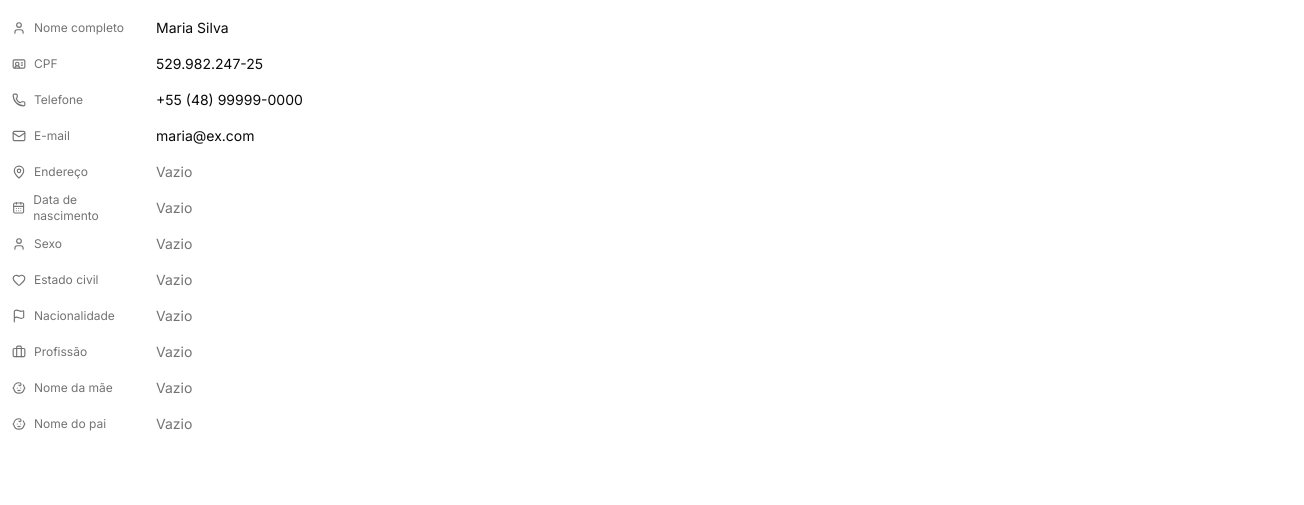
Scenario: ClienteDados › o botão de salvar só aparece depois de uma alteração
Click the button with aria-label "Editar Endereço" at (174, 172), box [148,156,1292,188]
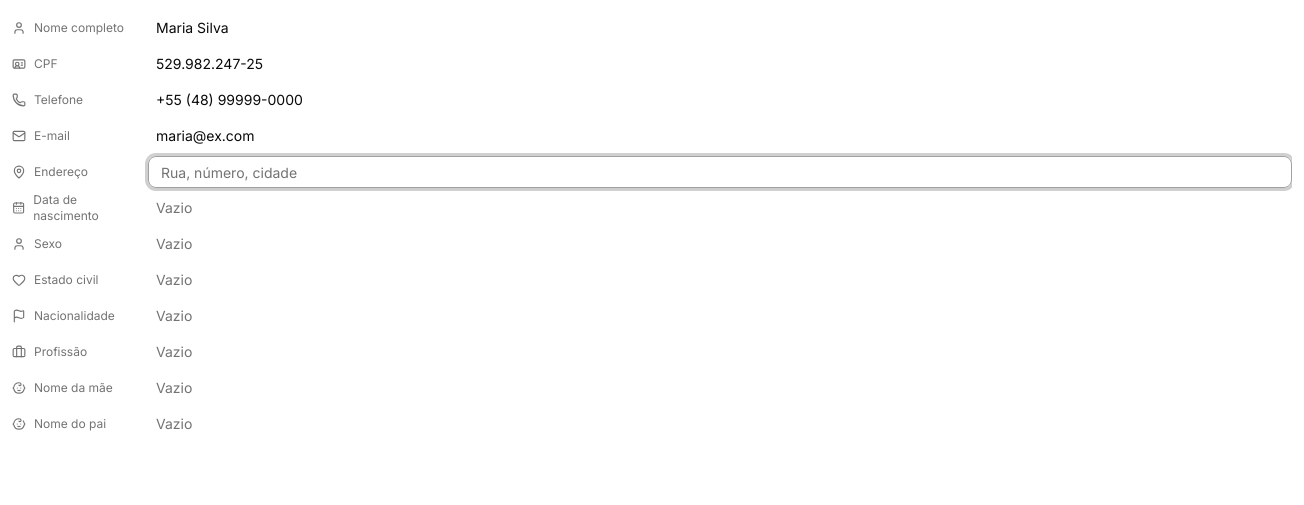
Expected: the button "Salvar" is not shown
Type "Rua 7, Joinville" into the field labelled "Endereço" at (720, 172), box [148,156,1292,188]
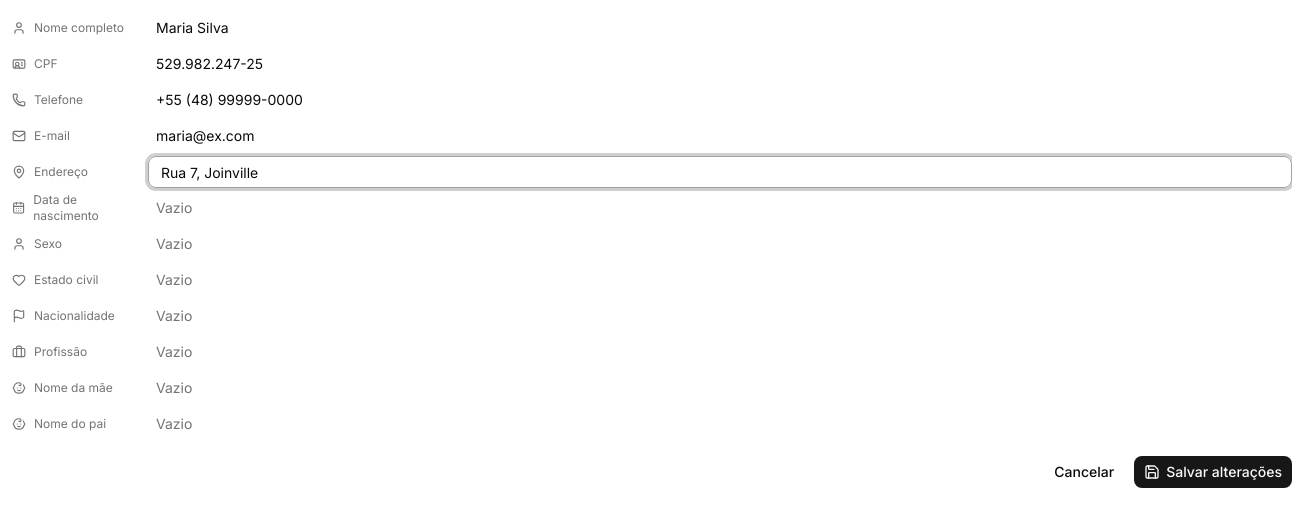
Expected: the button "Salvar alterações" is shown, [1134,456,1292,488]
